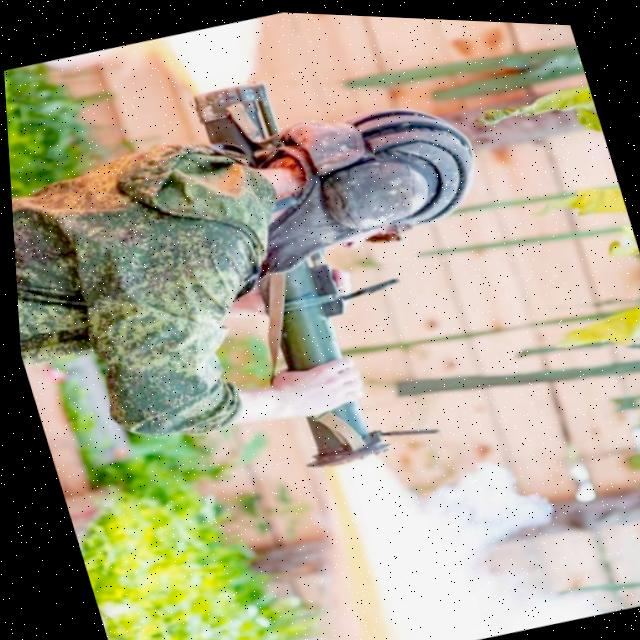rocket: (169, 64, 392, 477)
